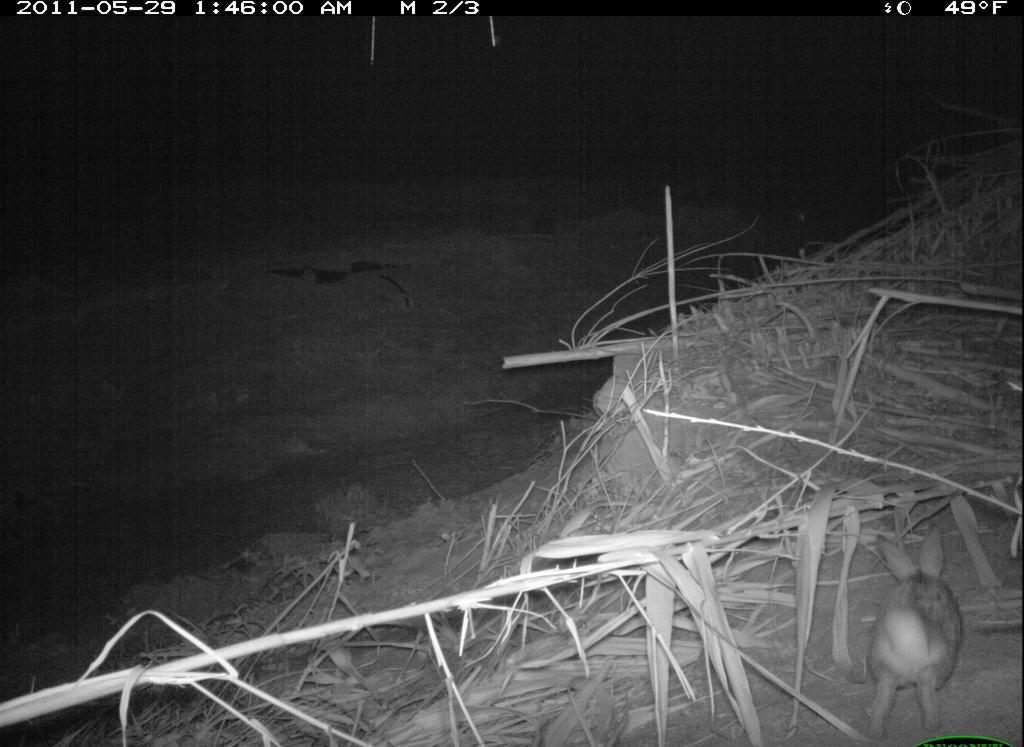rabbit: (856, 508, 975, 747)
